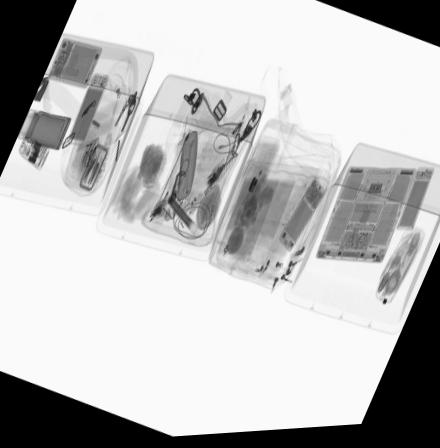Lighter: (169, 196, 202, 222)
